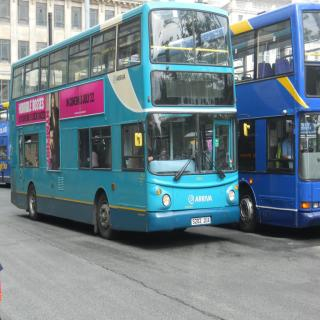bus: (9, 2, 240, 232), (230, 2, 320, 227)
